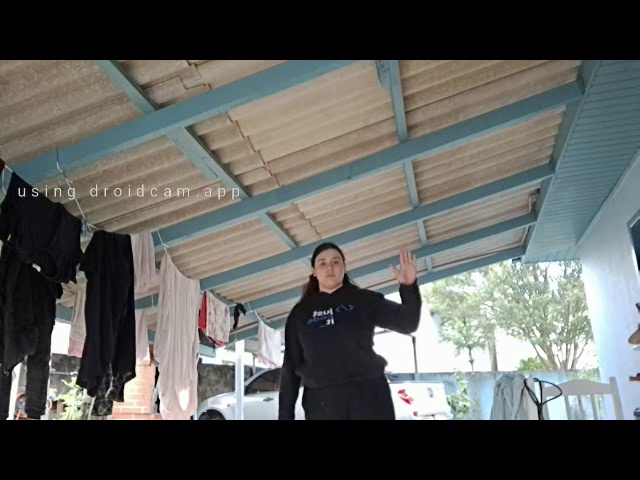MULHER: (292, 230, 349, 302)
